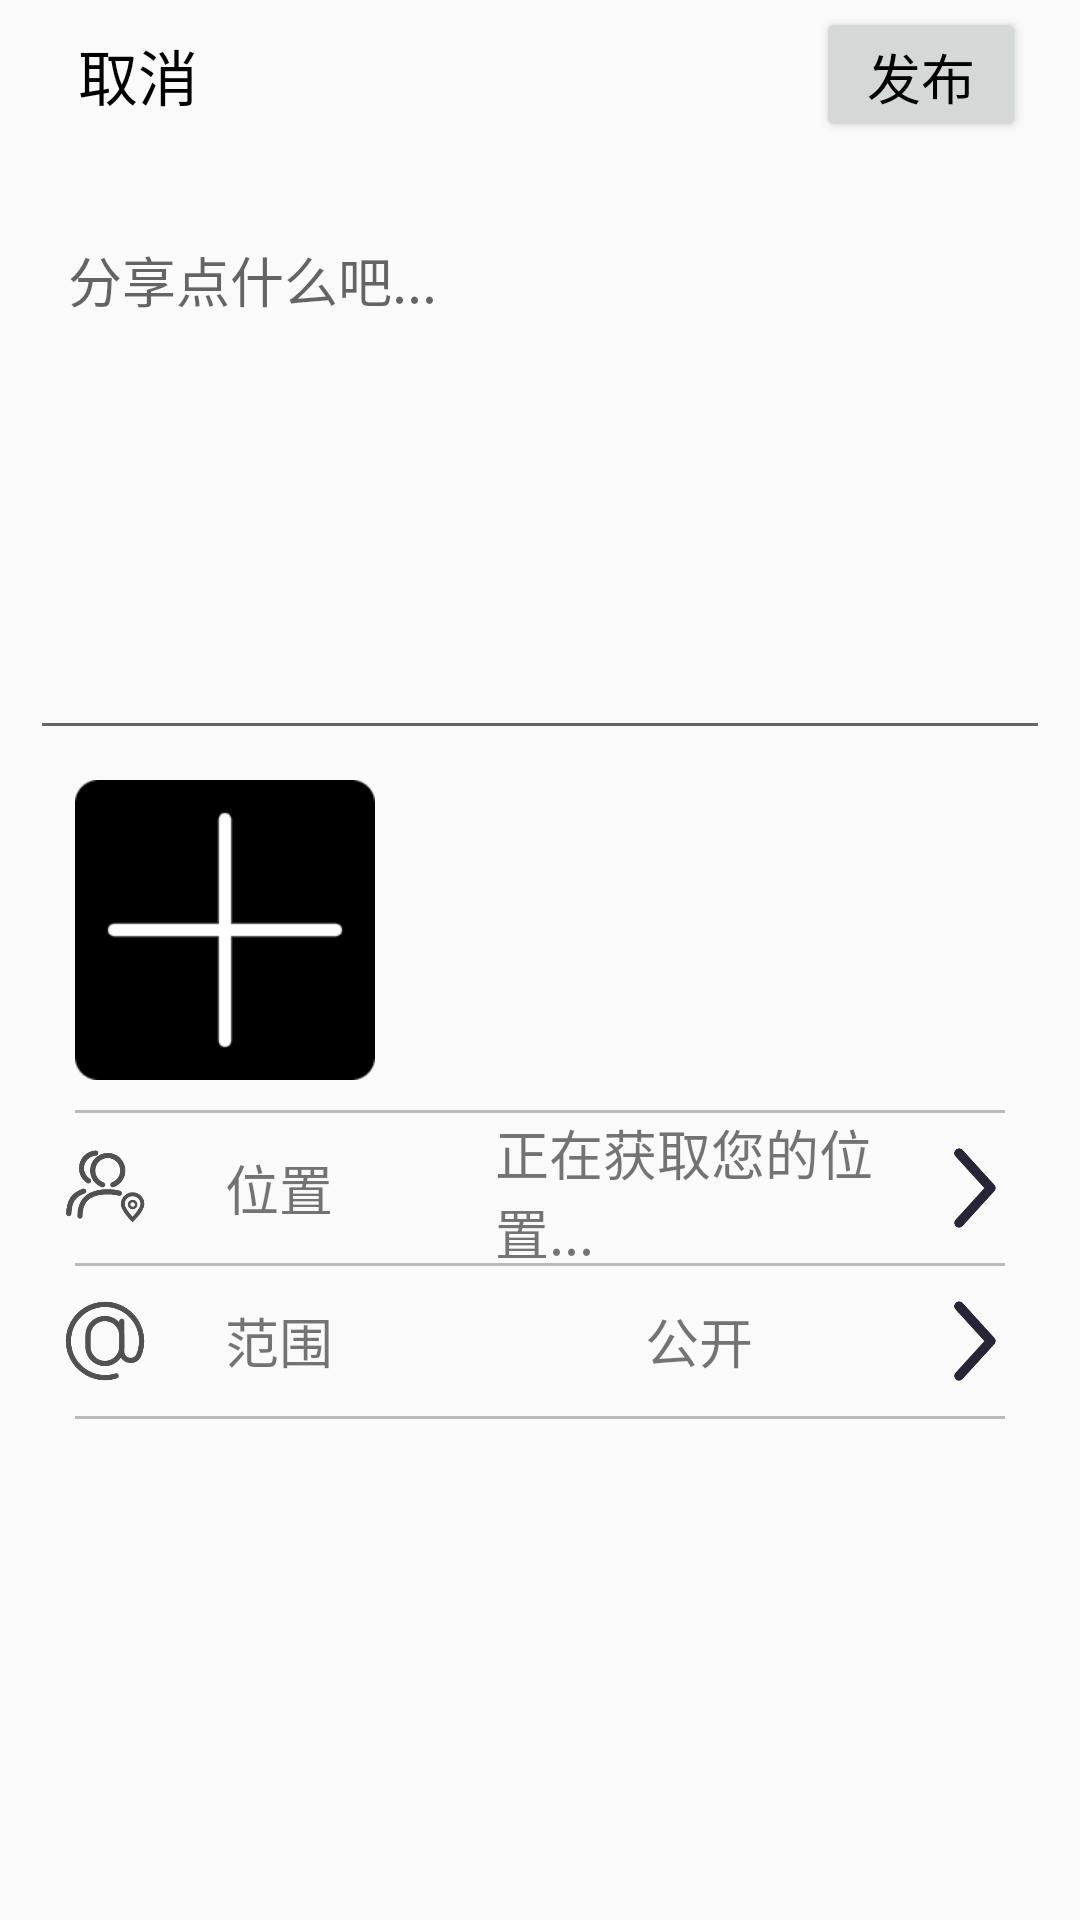

Screen size 1080*1920. Icon name, then its center in pixels as (x=x, y=y):
addimage: (x=225, y=930)
aite: (x=105, y=1341)
